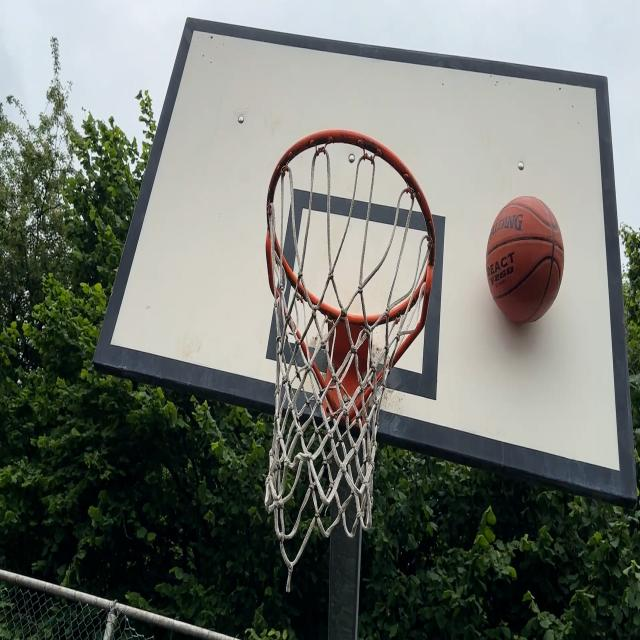rebound_hit: (484, 193, 565, 334)
